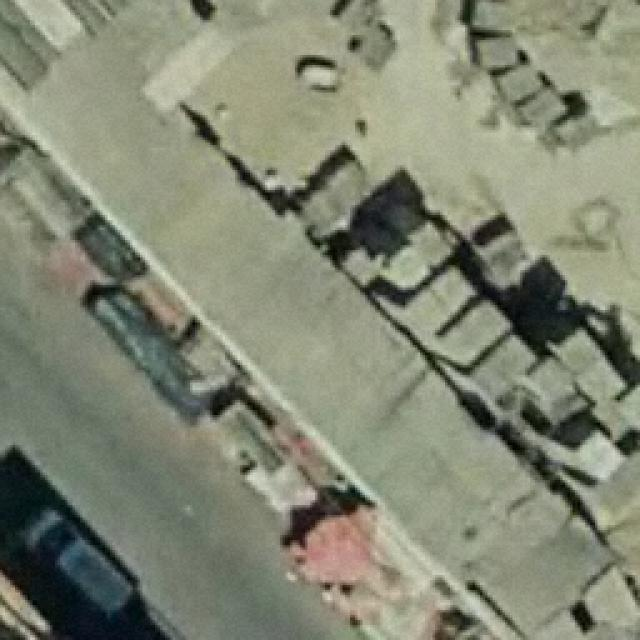vendedor_ambulante: (303, 510, 377, 587)
